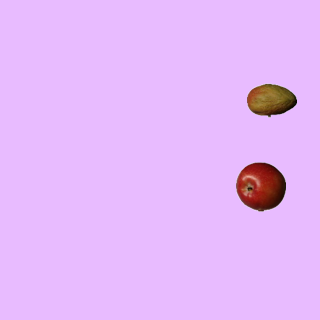Apple Braeburn: (235, 161, 285, 211)
Papaya: (246, 75, 296, 125)
